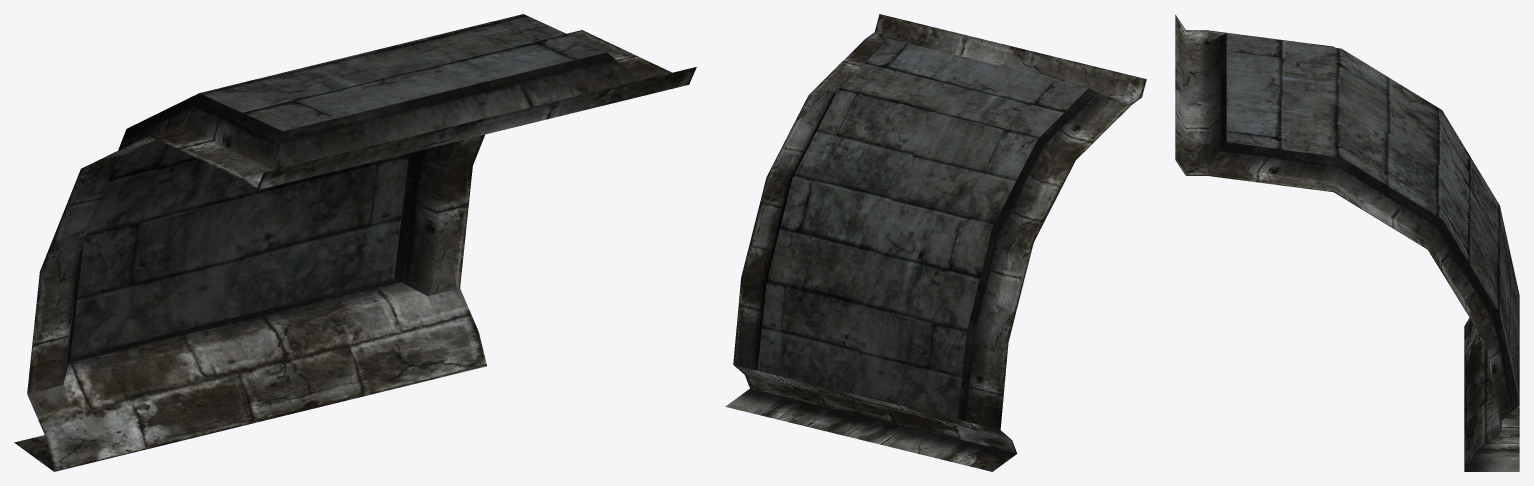
The model's file is ceiling_concave_short_alt.dae.
3 views of the same model, side by side, from view 1: azimuth 30°, elevation 25°; view 2: azimuth 150°, elevation 25°; view 3: azimuth 270°, elevation 25° (orthographic). The views are drawn at different scales.
Parts seen in each view (by area): view 1: pCube1; view 2: pCube1; view 3: pCube1.
Boxes of the visible parts, x1=… form: pCube1: x1=14, y1=14, x2=696, y2=471; pCube1: x1=725, y1=14, x2=1146, y2=471; pCube1: x1=1175, y1=14, x2=1519, y2=471.
Bounding box in the file's own units: 2 × 2 × 2.
